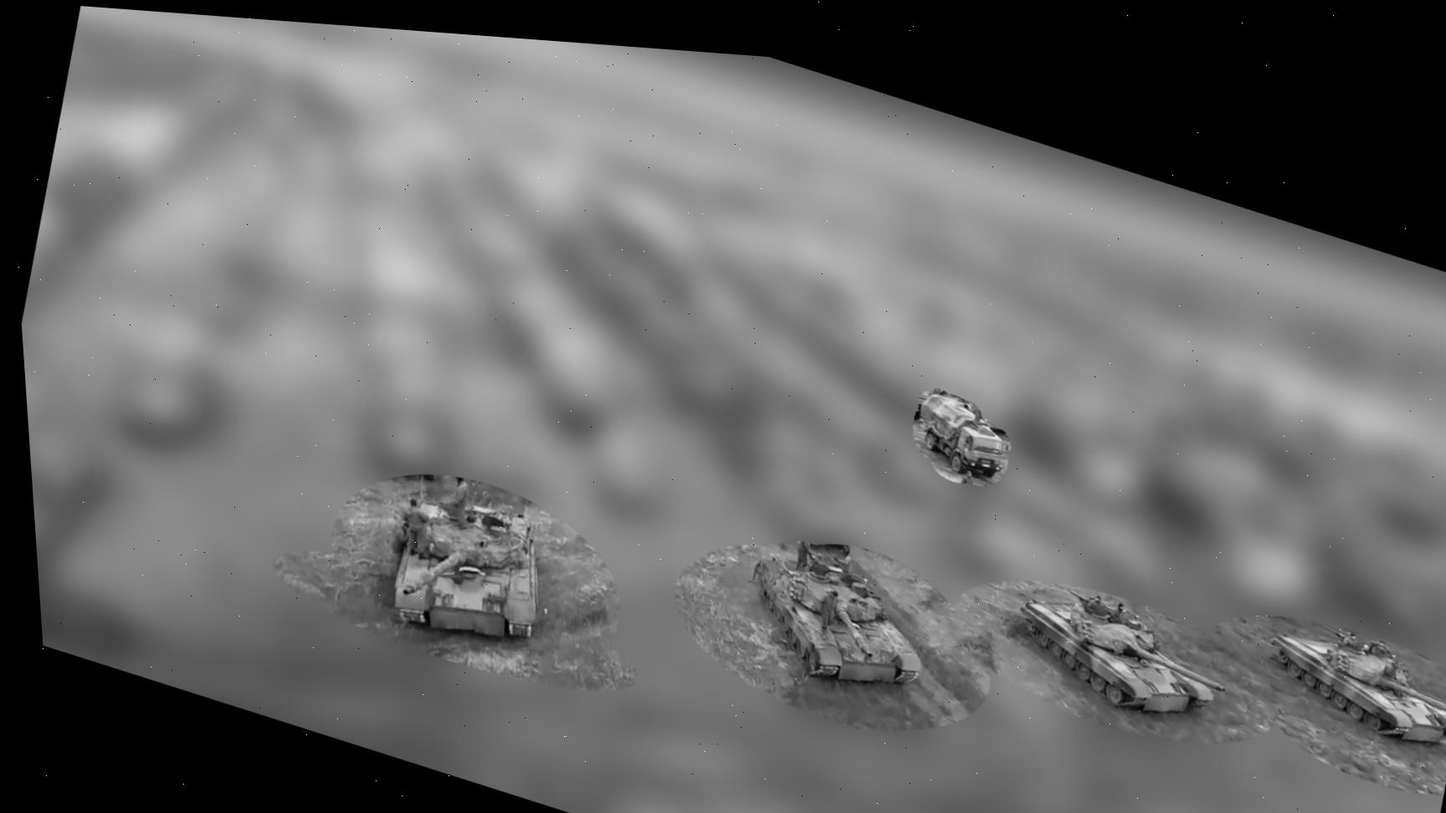tank: (722, 515, 951, 719), (998, 567, 1250, 745), (363, 473, 565, 675), (1248, 605, 1446, 769)
truck: (898, 381, 1022, 498)
